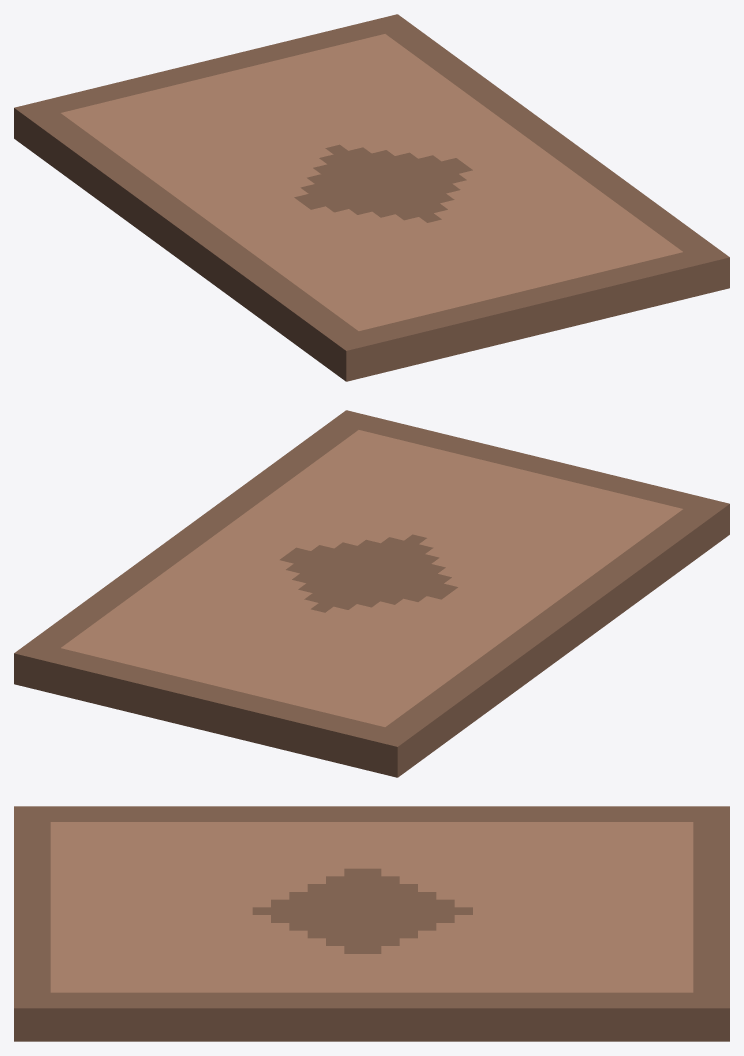
Rendered from alfombra_mediana_01.glb.
3 renders of one model, top to bottom at view 1: azimuth 30°, elevation 25°; view 2: azimuth 150°, elevation 25°; view 3: azimuth 270°, elevation 25°, orthographic. The views are drawn at different scales.
Visible parts, largest first — view 1: alfombra_mediana; view 2: alfombra_mediana; view 3: alfombra_mediana.
Boxes of the visible parts, <box> form: alfombra_mediana: <box>14,14,729,381</box>; alfombra_mediana: <box>14,410,729,777</box>; alfombra_mediana: <box>14,806,729,1041</box>.
Bounding box in the file's own units: 2 × 0.1538 × 3.
